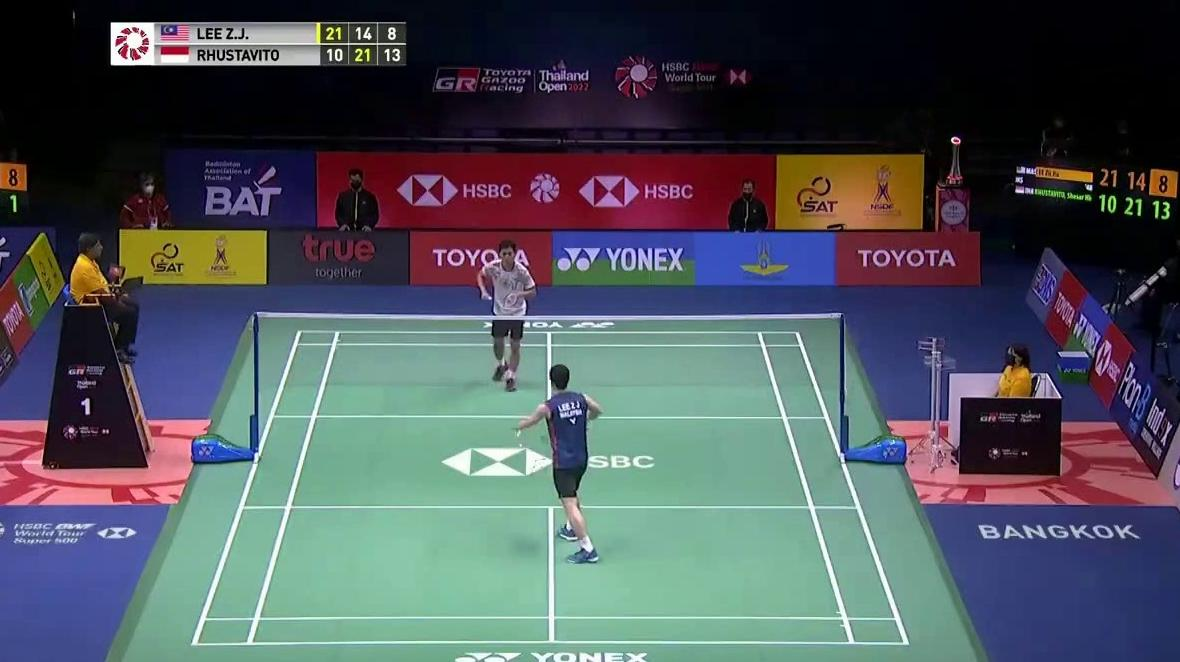racket: (527, 417, 592, 474), (486, 292, 519, 309)
shuttle: (515, 426, 523, 441)
